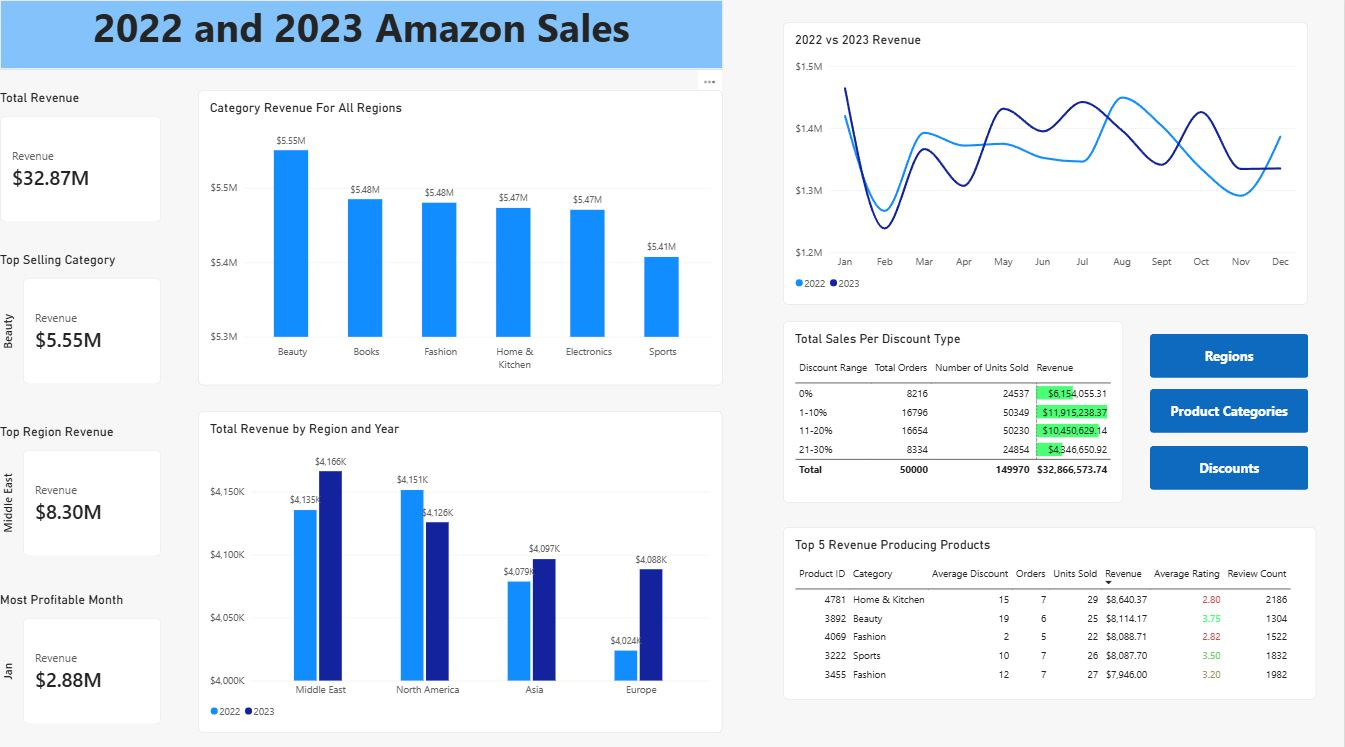

The page's visual inventory and layout, read from the dashboard file:
{"tool":"powerbi","page":{"name":"Dashboard","canvas":[1920,1080],"ordinal":0},"visuals":[{"type":"textbox","box":[0,0,1032.9,99.2],"z":0},{"type":"cardVisual","title":"Top Selling Category","fields":{"Rows":["CategoryPerformance.product_category"],"Data":["Sum(CategoryPerformance.category_revenue)"]},"box":[0,360.4,230.5,189.7],"z":1000},{"type":"cardVisual","title":"Top Region Revenue","fields":{"Rows":["RegionResults.customer_region"],"Data":["Sum(RegionResults.revenue)"]},"box":[0,605.5,230.5,189.7],"z":2000},{"type":"cardVisual","title":"Most Profitable Month","fields":{"Rows":["MonthNames.MonthName"],"Data":["Sum(CompleteTable.total_revenue)"]},"box":[0,846.2,230.5,189.7],"z":3000},{"type":"cardVisual","title":"Total Revenue","fields":{"Data":["Sum(CompleteTable.total_revenue)"]},"box":[0,128.4,230.5,189.7],"z":4000},{"type":"lineChart","title":"2022 vs 2023 Revenue","fields":{"Category":["MonthNames.MonthName"],"Y":["Sum(CompleteTable.total_revenue)"],"Series":["MonthandYear.Year"]},"box":[1119,32.1,750,404],"z":5000},{"type":"tableEx","title":"Total Sales Per Discount Type","fields":{"Values":["DiscountResults.discounted_range","Sum(DiscountResults.order_count)","Sum(DiscountResults.units_sold)","Sum(DiscountResults.total_revenue)"]},"box":[1119,458.1,485.8,259.7],"z":6000},{"type":"clusteredColumnChart","title":"Category Revenue For All Regions","fields":{"Category":["CompleteTable.product_category"],"Y":["Sum(CompleteTable.total_revenue)"]},"box":[283,128.4,749.9,421.6],"z":7000},{"type":"tableEx","title":"Top 5 Revenue Producing Products","fields":{"Values":["TopPerformers.product_id","TopPerformers.product_category","TopPerformers.avg_discount","TopPerformers.orders","TopPerformers.quantity","TopPerformers.revenue","TopPerformers.average_rating","TopPerformers.reviews"]},"box":[1119,752.8,761.6,246.6],"z":8000},{"type":"clusteredColumnChart","fields":{"Category":["CompleteTable.customer_region"],"Y":["Sum(CompleteTable.total_revenue)"],"Series":["MonthandYear.Year"]},"box":[283.3,587.5,749.4,460.1],"z":9000},{"type":"actionButton","box":[1642.8,477.1,226.1,62.7],"z":10000},{"type":"actionButton","box":[1642.8,555.9,226.1,62.7],"z":11000},{"type":"actionButton","box":[1642.8,637.6,226.1,62.7],"z":12000}]}

Visuals, with their boxes in screenshot pixels (x1, y1, x2, y2), scaled from the page's 1920x1080 canvas onto the 1345x747 screenshot:
textbox: box(0, 0, 724, 69)
"Top Selling Category" cardVisual: box(0, 249, 161, 380)
"Top Region Revenue" cardVisual: box(0, 419, 161, 550)
"Most Profitable Month" cardVisual: box(0, 585, 161, 716)
"Total Revenue" cardVisual: box(0, 89, 161, 220)
"2022 vs 2023 Revenue" lineChart: box(784, 22, 1309, 302)
"Total Sales Per Discount Type" tableEx: box(784, 317, 1124, 496)
"Category Revenue For All Regions" clusteredColumnChart: box(198, 89, 724, 380)
"Top 5 Revenue Producing Products" tableEx: box(784, 521, 1317, 691)
clusteredColumnChart - CompleteTable.customer_region x Sum(CompleteTable.total_revenue): box(198, 406, 723, 725)
actionButton: box(1151, 330, 1309, 373)
actionButton: box(1151, 384, 1309, 428)
actionButton: box(1151, 441, 1309, 484)
